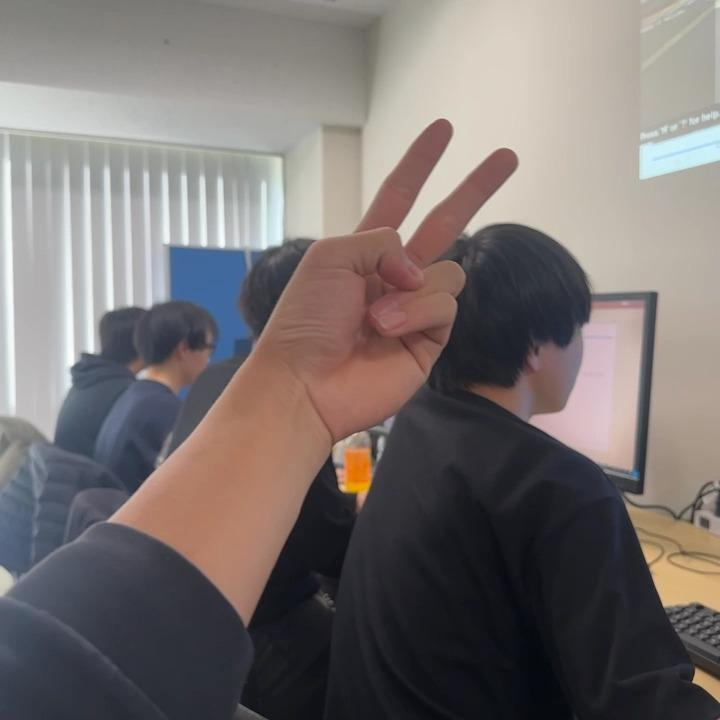without_gloves: (276, 115, 556, 459), (314, 255, 350, 287)
